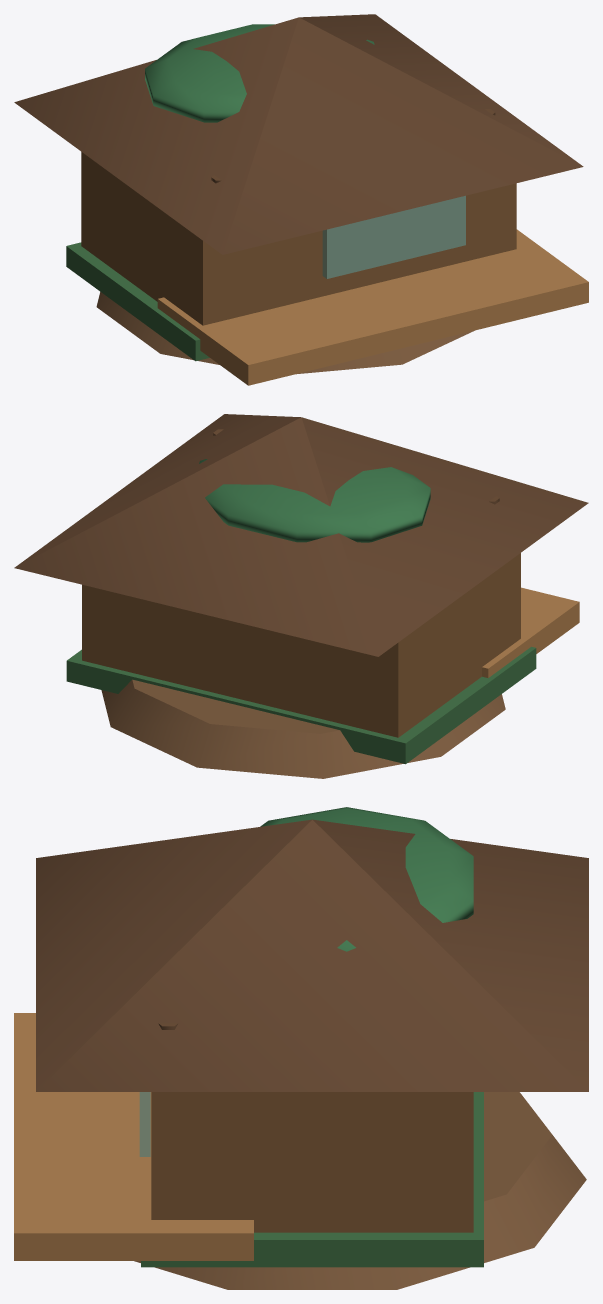
Rendered from forest-manor.glb.
3 views of the same model, one above another, from view 1: azimuth 30°, elevation 25°; view 2: azimuth 150°, elevation 25°; view 3: azimuth 270°, elevation 25° (orthographic). The views are drawn at different scales.
Visible parts, largest first — view 1: forest-manor; view 2: forest-manor; view 3: forest-manor.
Boxes of the visible parts, x1,y1,x2,y2 form: forest-manor: (14, 14, 588, 385); forest-manor: (14, 414, 588, 778); forest-manor: (14, 807, 588, 1289).
Size of the model in its own units: 4.03 by 2.9 by 4.19.
